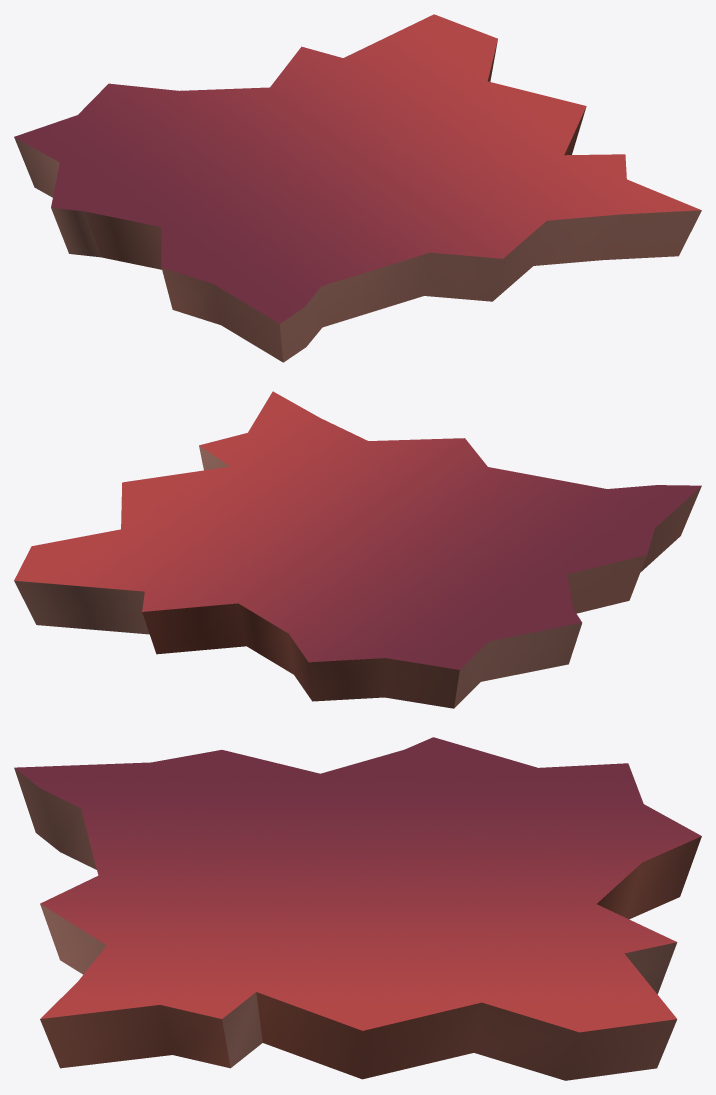
The model's file is moving platform.fbx.
The picture shows the model from 3 angles, top to bottom: view 1: azimuth 30°, elevation 25°; view 2: azimuth 150°, elevation 25°; view 3: azimuth 270°, elevation 25°; orthographic projection. The views are drawn at different scales.
Parts seen in each view (by area): view 1: Box001; view 2: Box001; view 3: Box001.
Part boxes in pixels (<box>): Box001: <box>14,14,701,362</box>; Box001: <box>14,391,701,708</box>; Box001: <box>14,737,701,1080</box>.
Bounding box in the file's own units: 54.81 × 5 × 53.96.
